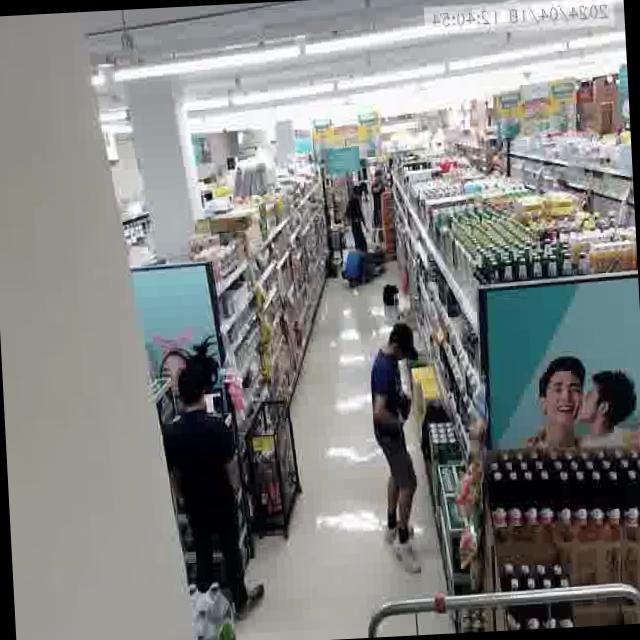shoplifting: (360, 314, 434, 587)
